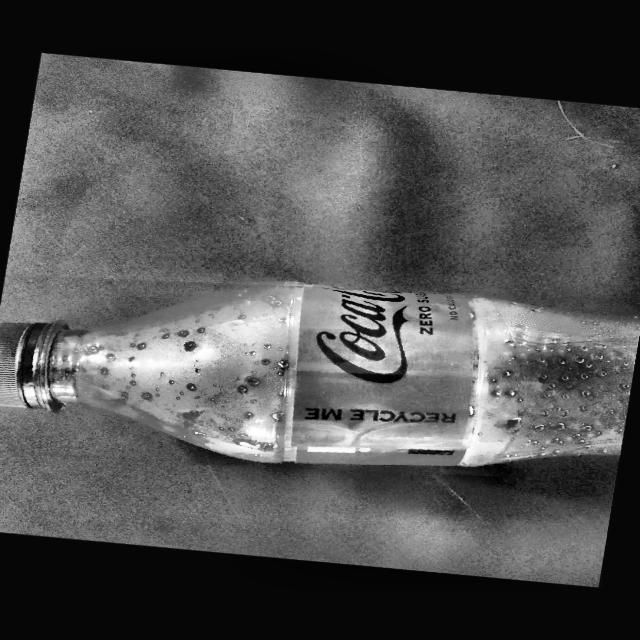Plastic-Bottle: (0, 246, 640, 505)
